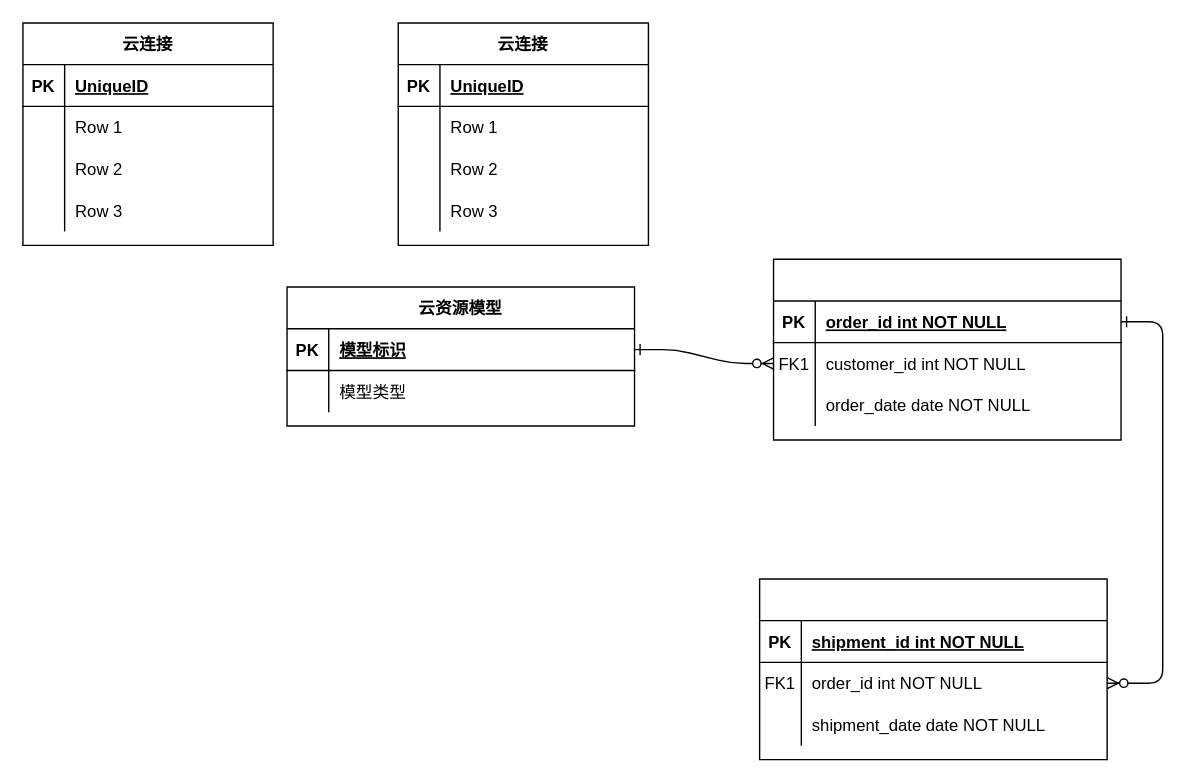
Image size: 1186x783. Some labels were removed from this diagram. The shapes that lost their labels are listed below. From the top down, each one's box as (x1, y1, x2, y2) in pixels, then its label:
(772, 258, 1121, 440): Orders
(758, 578, 1107, 760): Shipments
